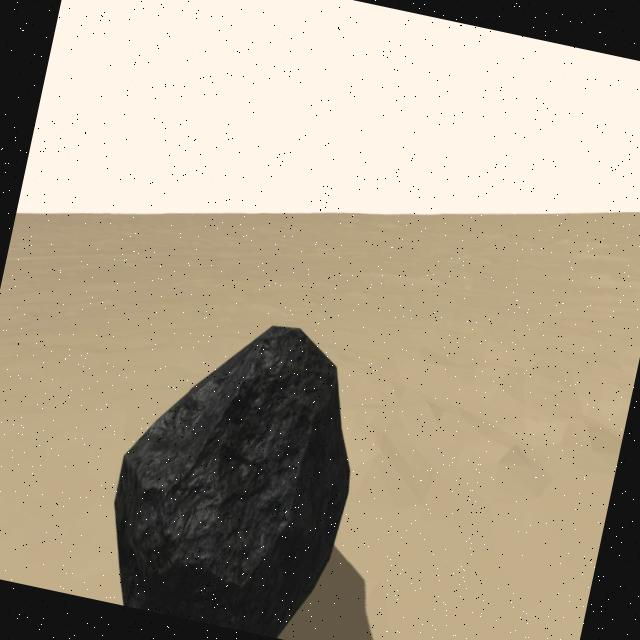rock: (92, 297, 379, 640)
